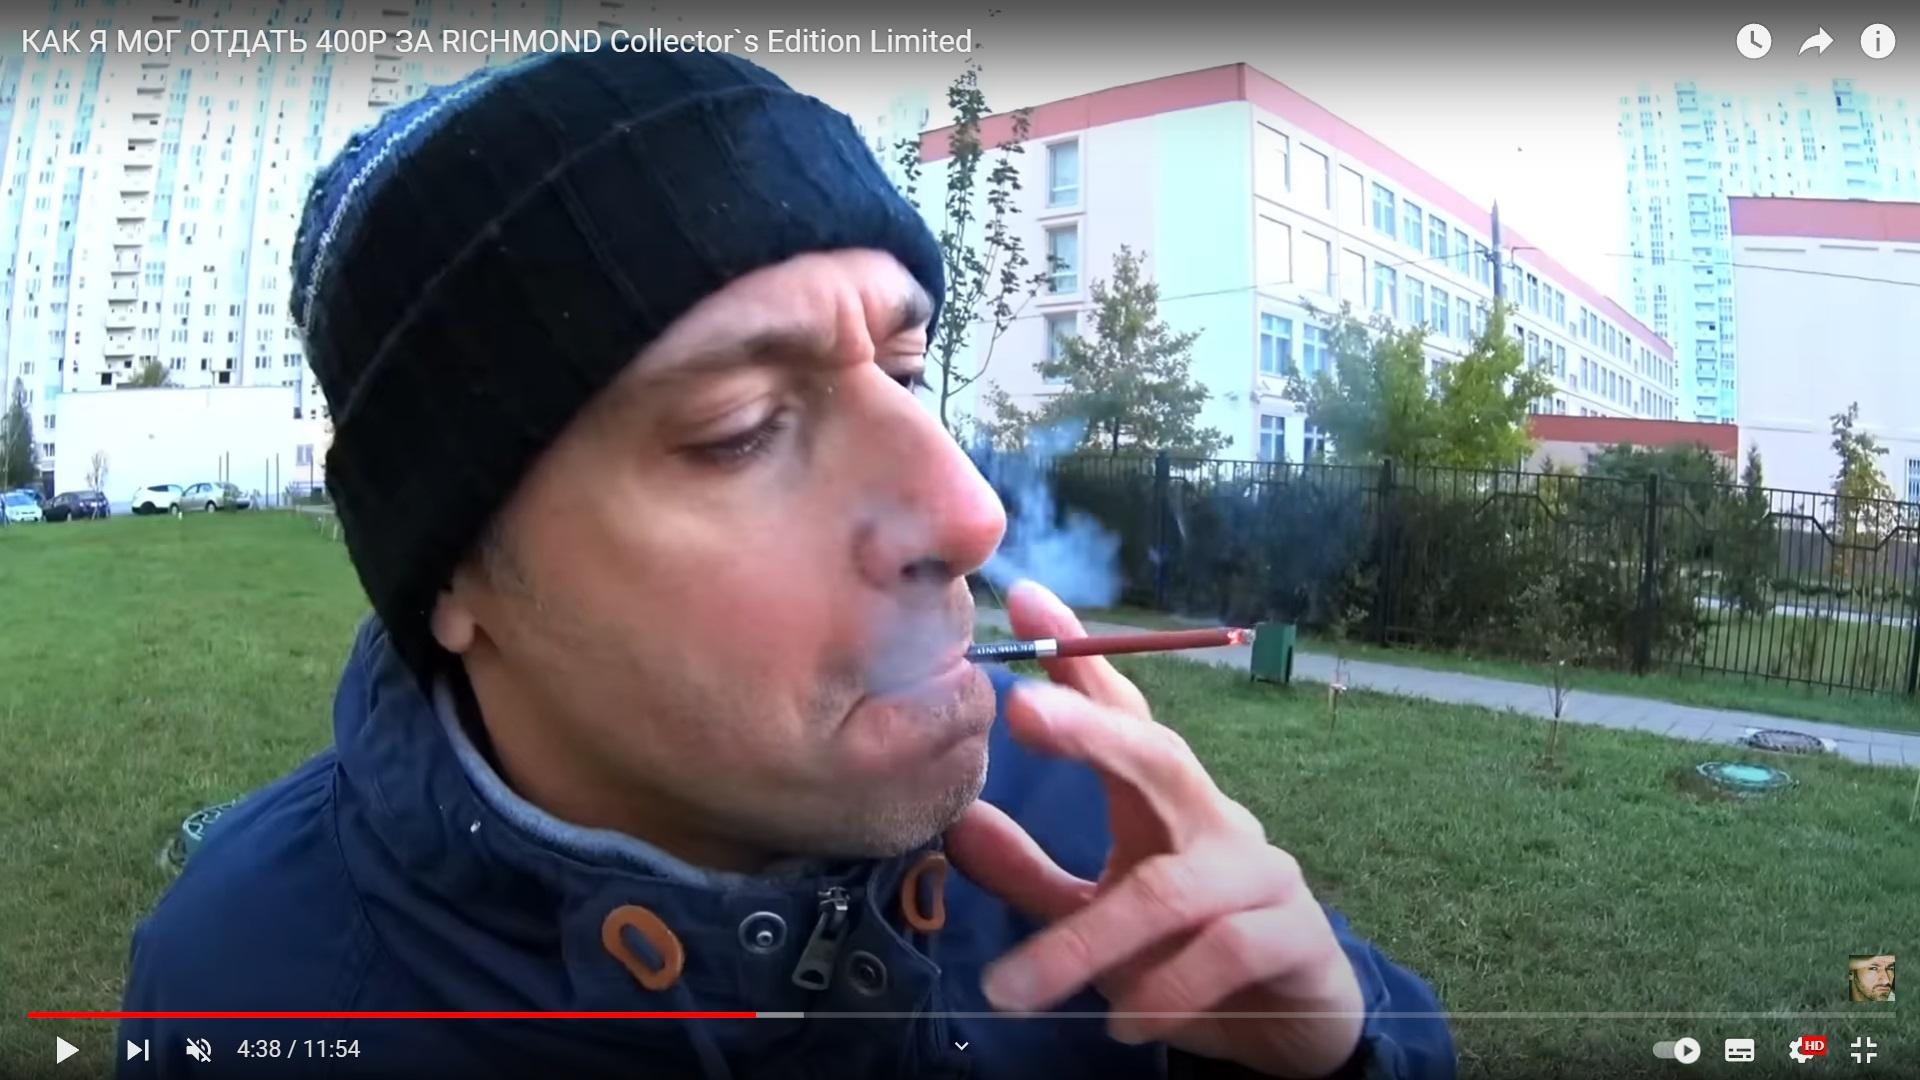cigarette: (964, 626, 1255, 663)
